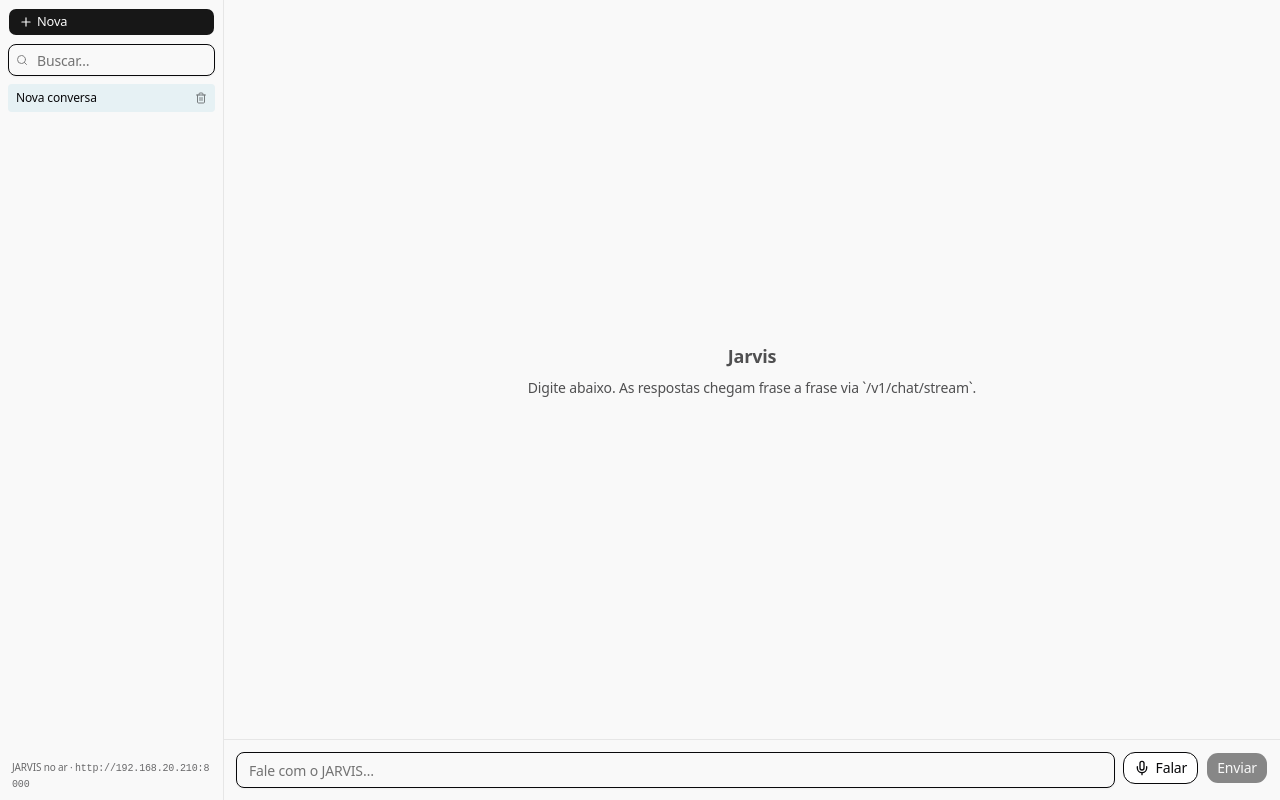
Test case: ChatPage › mostra as frases e depois o texto canônico do fim
The width and height of the screenshot is (1280, 800).
Type "oi" into the field with placeholder "Fale com o JARVIS…".
click(675, 770); type("oi")  # box [236,752,1115,788]
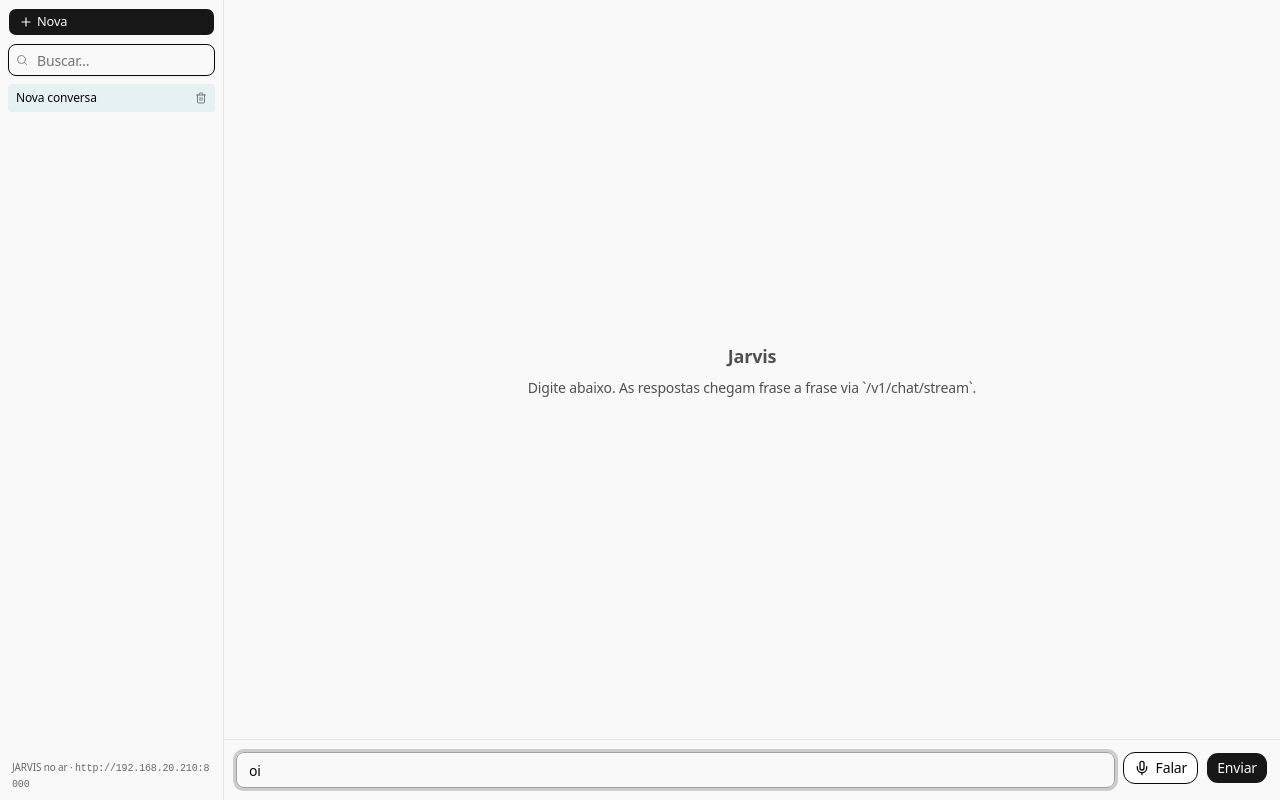
Click the button "Enviar".
click(1237, 768)  # box [1206,752,1268,784]
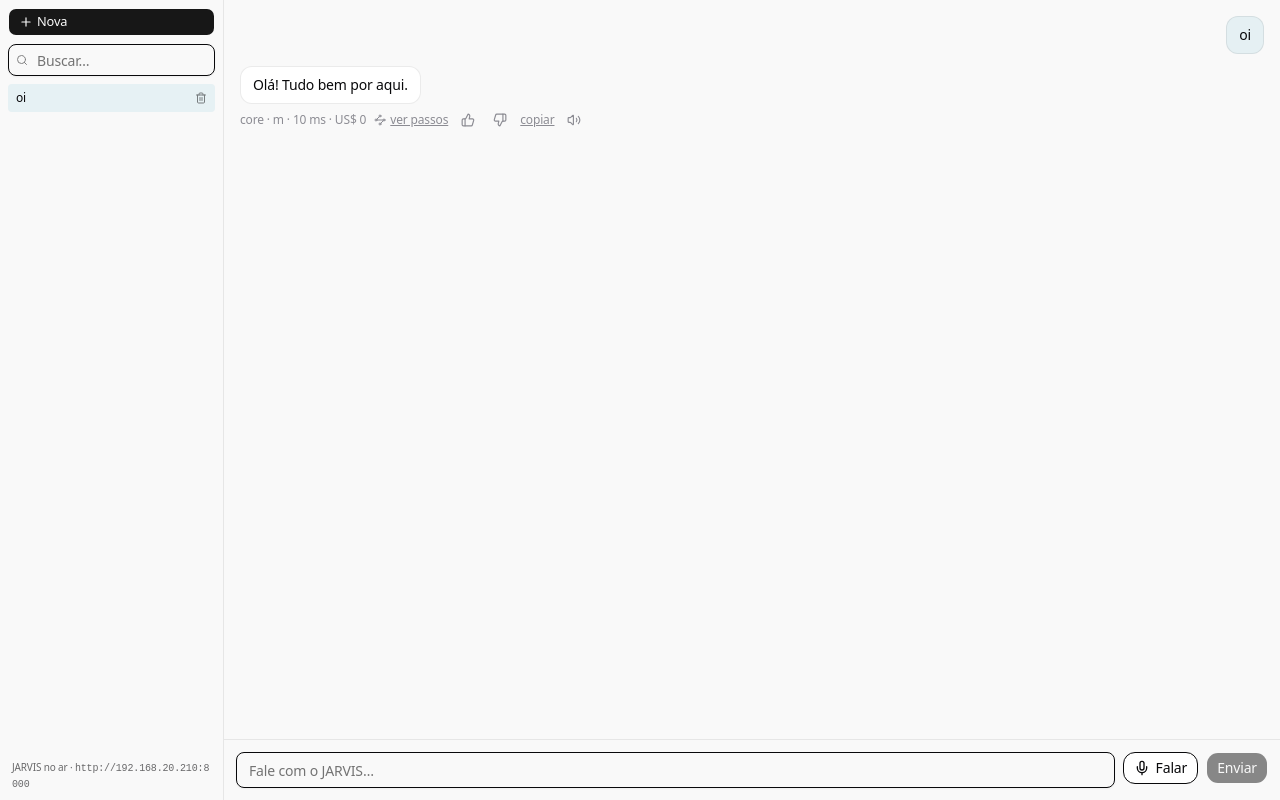
Expected: the button "oi" is shown, [12,84,187,112]
Expected: the text "Olá! Tudo bem por aqui." is shown, [240,66,421,104]
